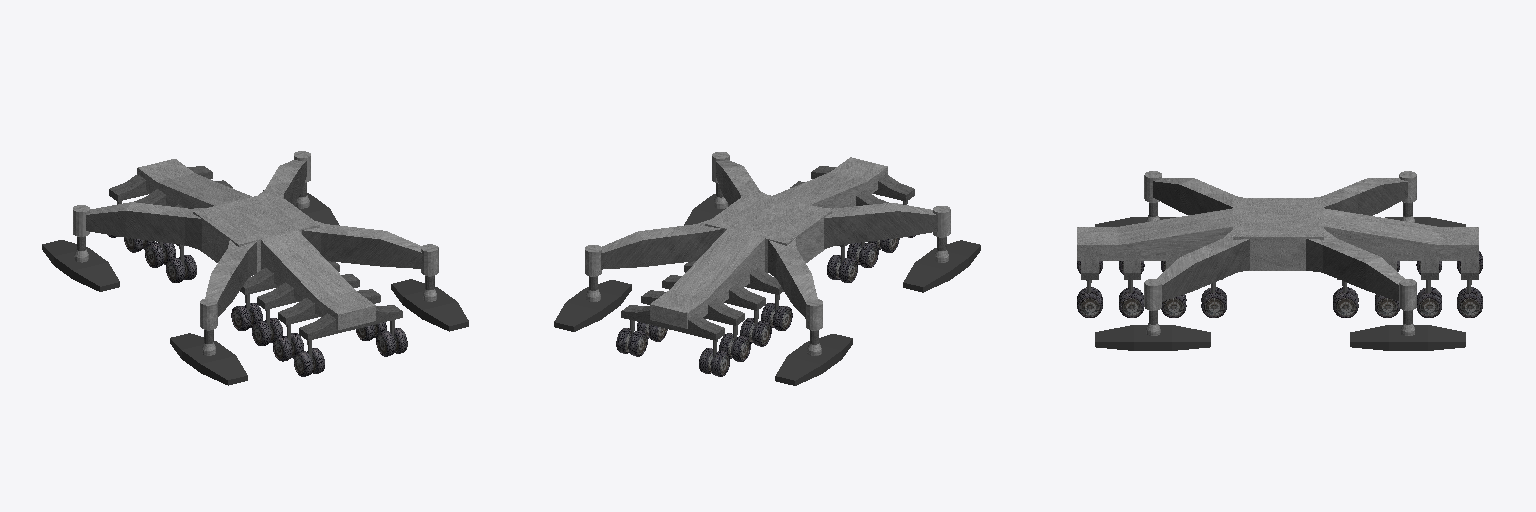
3 renders of one model, left to right at view 1: azimuth 30°, elevation 25°; view 2: azimuth 150°, elevation 25°; view 3: azimuth 270°, elevation 25°, orthographic.
Parts seen in each view (by area): view 1: corpus_Cube.003, legsHandlers_Cube.004, legs_Cube.006, wheel_Cylinder.002, Cube_Cube.007; view 2: corpus_Cube.003, legsHandlers_Cube.004, legs_Cube.006, wheel_Cylinder.002, Cube_Cube.007; view 3: corpus_Cube.003, legsHandlers_Cube.004, legs_Cube.006, wheel_Cylinder.002, Cube_Cube.007.
Part boxes in pixels (x1,y1,x2,y2): corpus_Cube.003: (137,159,375,329); legsHandlers_Cube.004: (86,160,421,316); legs_Cube.006: (42,151,468,385); wheel_Cylinder.002: (108,201,407,376); Cube_Cube.007: (109,166,402,340); corpus_Cube.003: (650,157,887,328); legsHandlers_Cube.004: (601,160,937,318); legs_Cube.006: (554,152,980,385); wheel_Cylinder.002: (616,201,915,376); Cube_Cube.007: (621,166,914,340); corpus_Cube.003: (1077,198,1478,270); legsHandlers_Cube.004: (1153,178,1407,301); legs_Cube.006: (1095,171,1465,350); wheel_Cylinder.002: (1077,251,1482,317); Cube_Cube.007: (1081,251,1478,279).
Bounding box in the file's own units: 2.84 × 0.8121 × 3.89.
Materials: 6 (2 with a texture image).